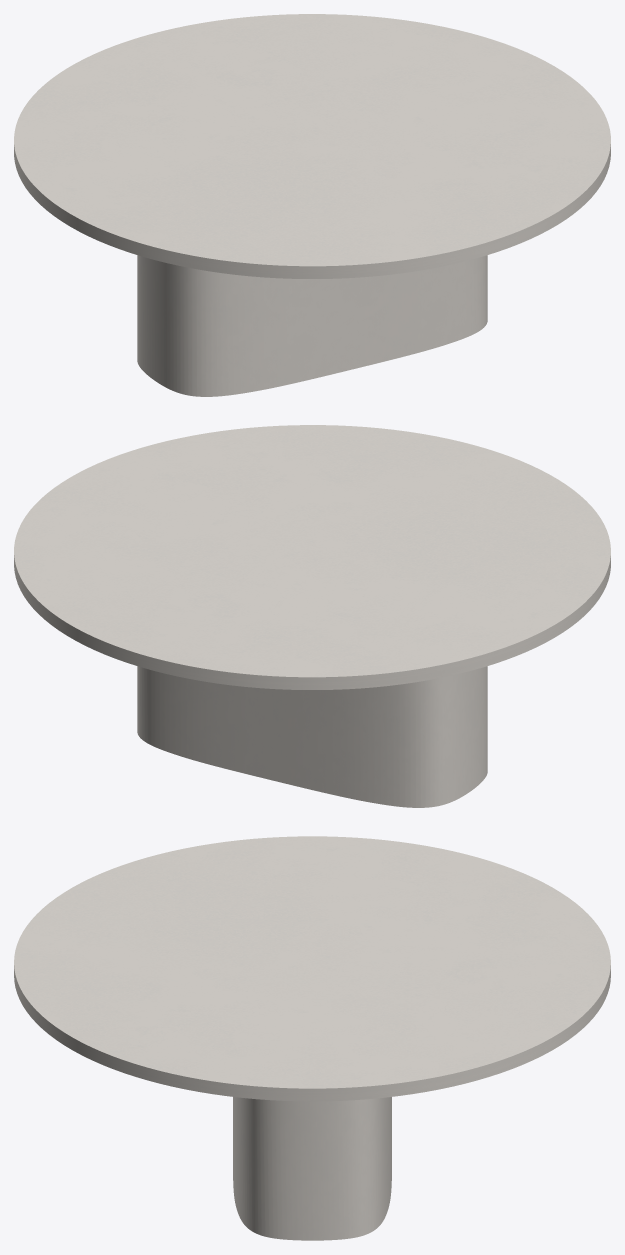
The model's file is pearlwhite_round_standard_fixed.glb.
3 renders of one model, top to bottom at view 1: azimuth 30°, elevation 25°; view 2: azimuth 150°, elevation 25°; view 3: azimuth 270°, elevation 25°, orthographic.
Visible parts, largest first — view 1: standard_round, fixed; view 2: standard_round, fixed; view 3: standard_round, fixed.
Part boxes in pixels (<box>): standard_round: <box>14,14,610,278</box>; fixed: <box>137,255,487,396</box>; standard_round: <box>14,425,610,689</box>; fixed: <box>137,666,487,807</box>; standard_round: <box>14,836,610,1101</box>; fixed: <box>233,1097,391,1240</box>.
Bounding box in the file's own units: 6.75 × 2.5 × 6.75.
1 material, 1 textured.
